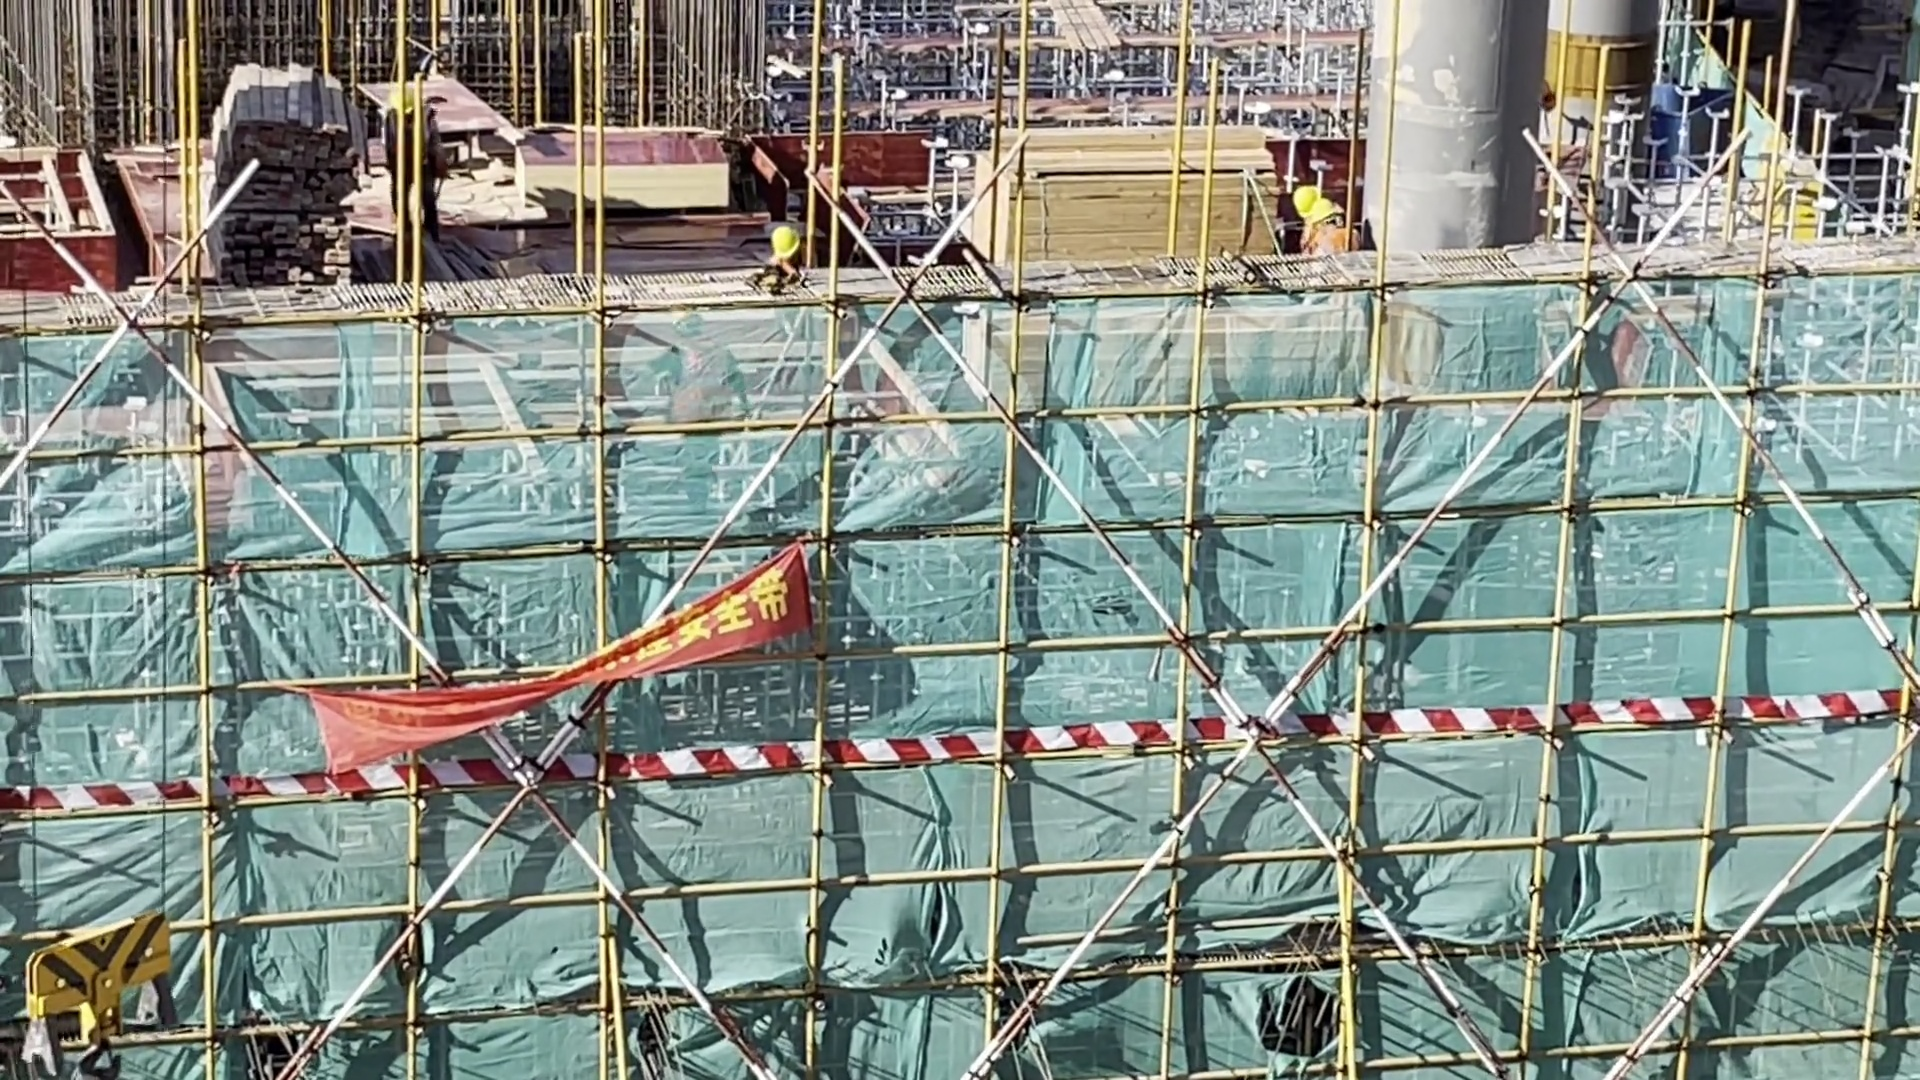helmet: (1285, 182, 1343, 231), (752, 218, 804, 265), (388, 83, 416, 117)
hopper: (1648, 76, 1745, 177)
person: (383, 68, 445, 250), (1280, 182, 1369, 267)
slogan: (276, 529, 817, 797)
wood: (963, 114, 1298, 277), (195, 56, 371, 308)
